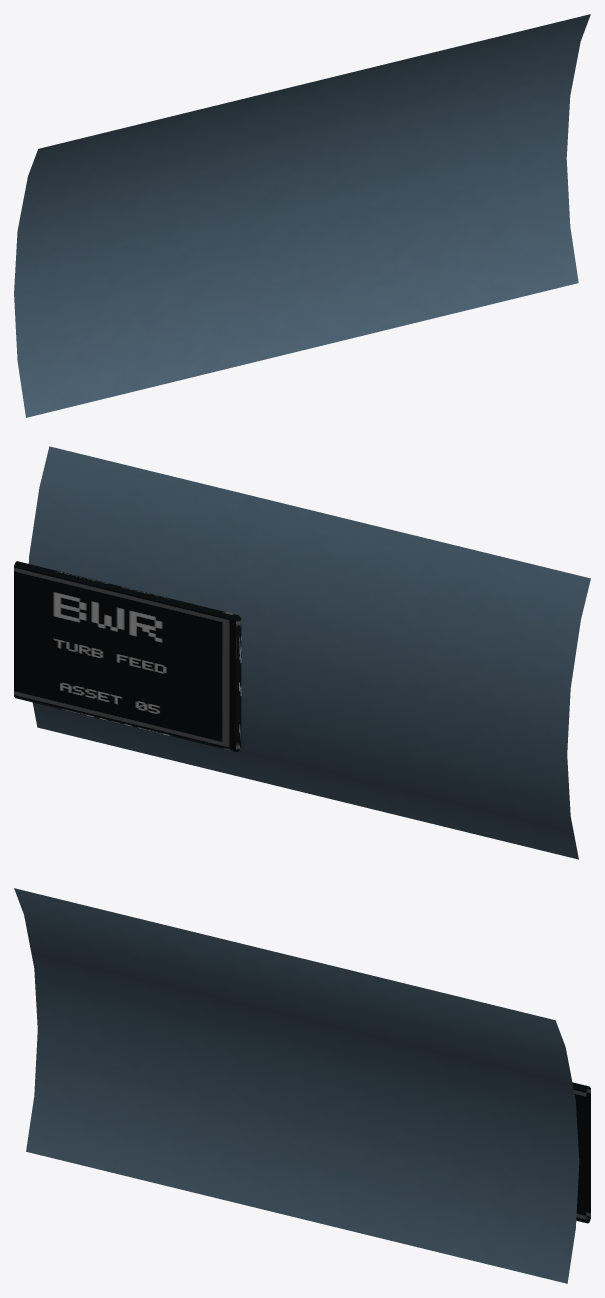
Rendered from cell_22.obj.
The picture shows the model from 3 angles, top to bottom: view 1: azimuth 30°, elevation 25°; view 2: azimuth 150°, elevation 25°; view 3: azimuth 330°, elevation 25°; orthographic projection. The views are drawn at different scales.
Parts seen in each view (by area): view 1: cell_22; view 2: cell_22; view 3: cell_22.
Part boxes in pixels (x1=…): cell_22: x1=14, y1=14, x2=590, y2=417; cell_22: x1=14, y1=446, x2=590, y2=859; cell_22: x1=14, y1=888, x2=590, y2=1283.
Size of the model in its own units: 1 by 0.4806 by 0.1132.
